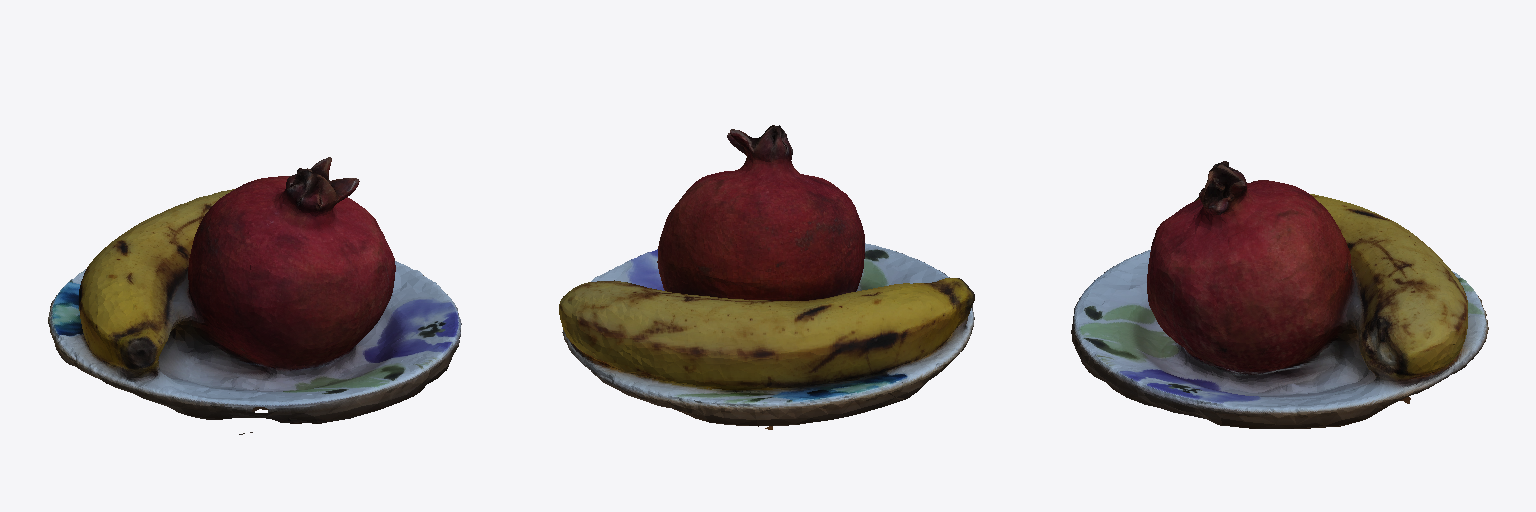
3 renders of one model, left to right at view 1: azimuth 30°, elevation 25°; view 2: azimuth 150°, elevation 25°; view 3: azimuth 270°, elevation 25°, orthographic.
Visible parts, largest first — view 1: sb3; view 2: sb3; view 3: sb3.
Boxes of the visible parts, x1,y1,x2,y2 form: sb3: [48, 157, 461, 434]; sb3: [559, 125, 974, 429]; sb3: [1071, 161, 1488, 428].
Bounding box in the file's own units: 0.1091 × 0.0604 × 0.1101.
Materials: 1 (1 with a texture image).